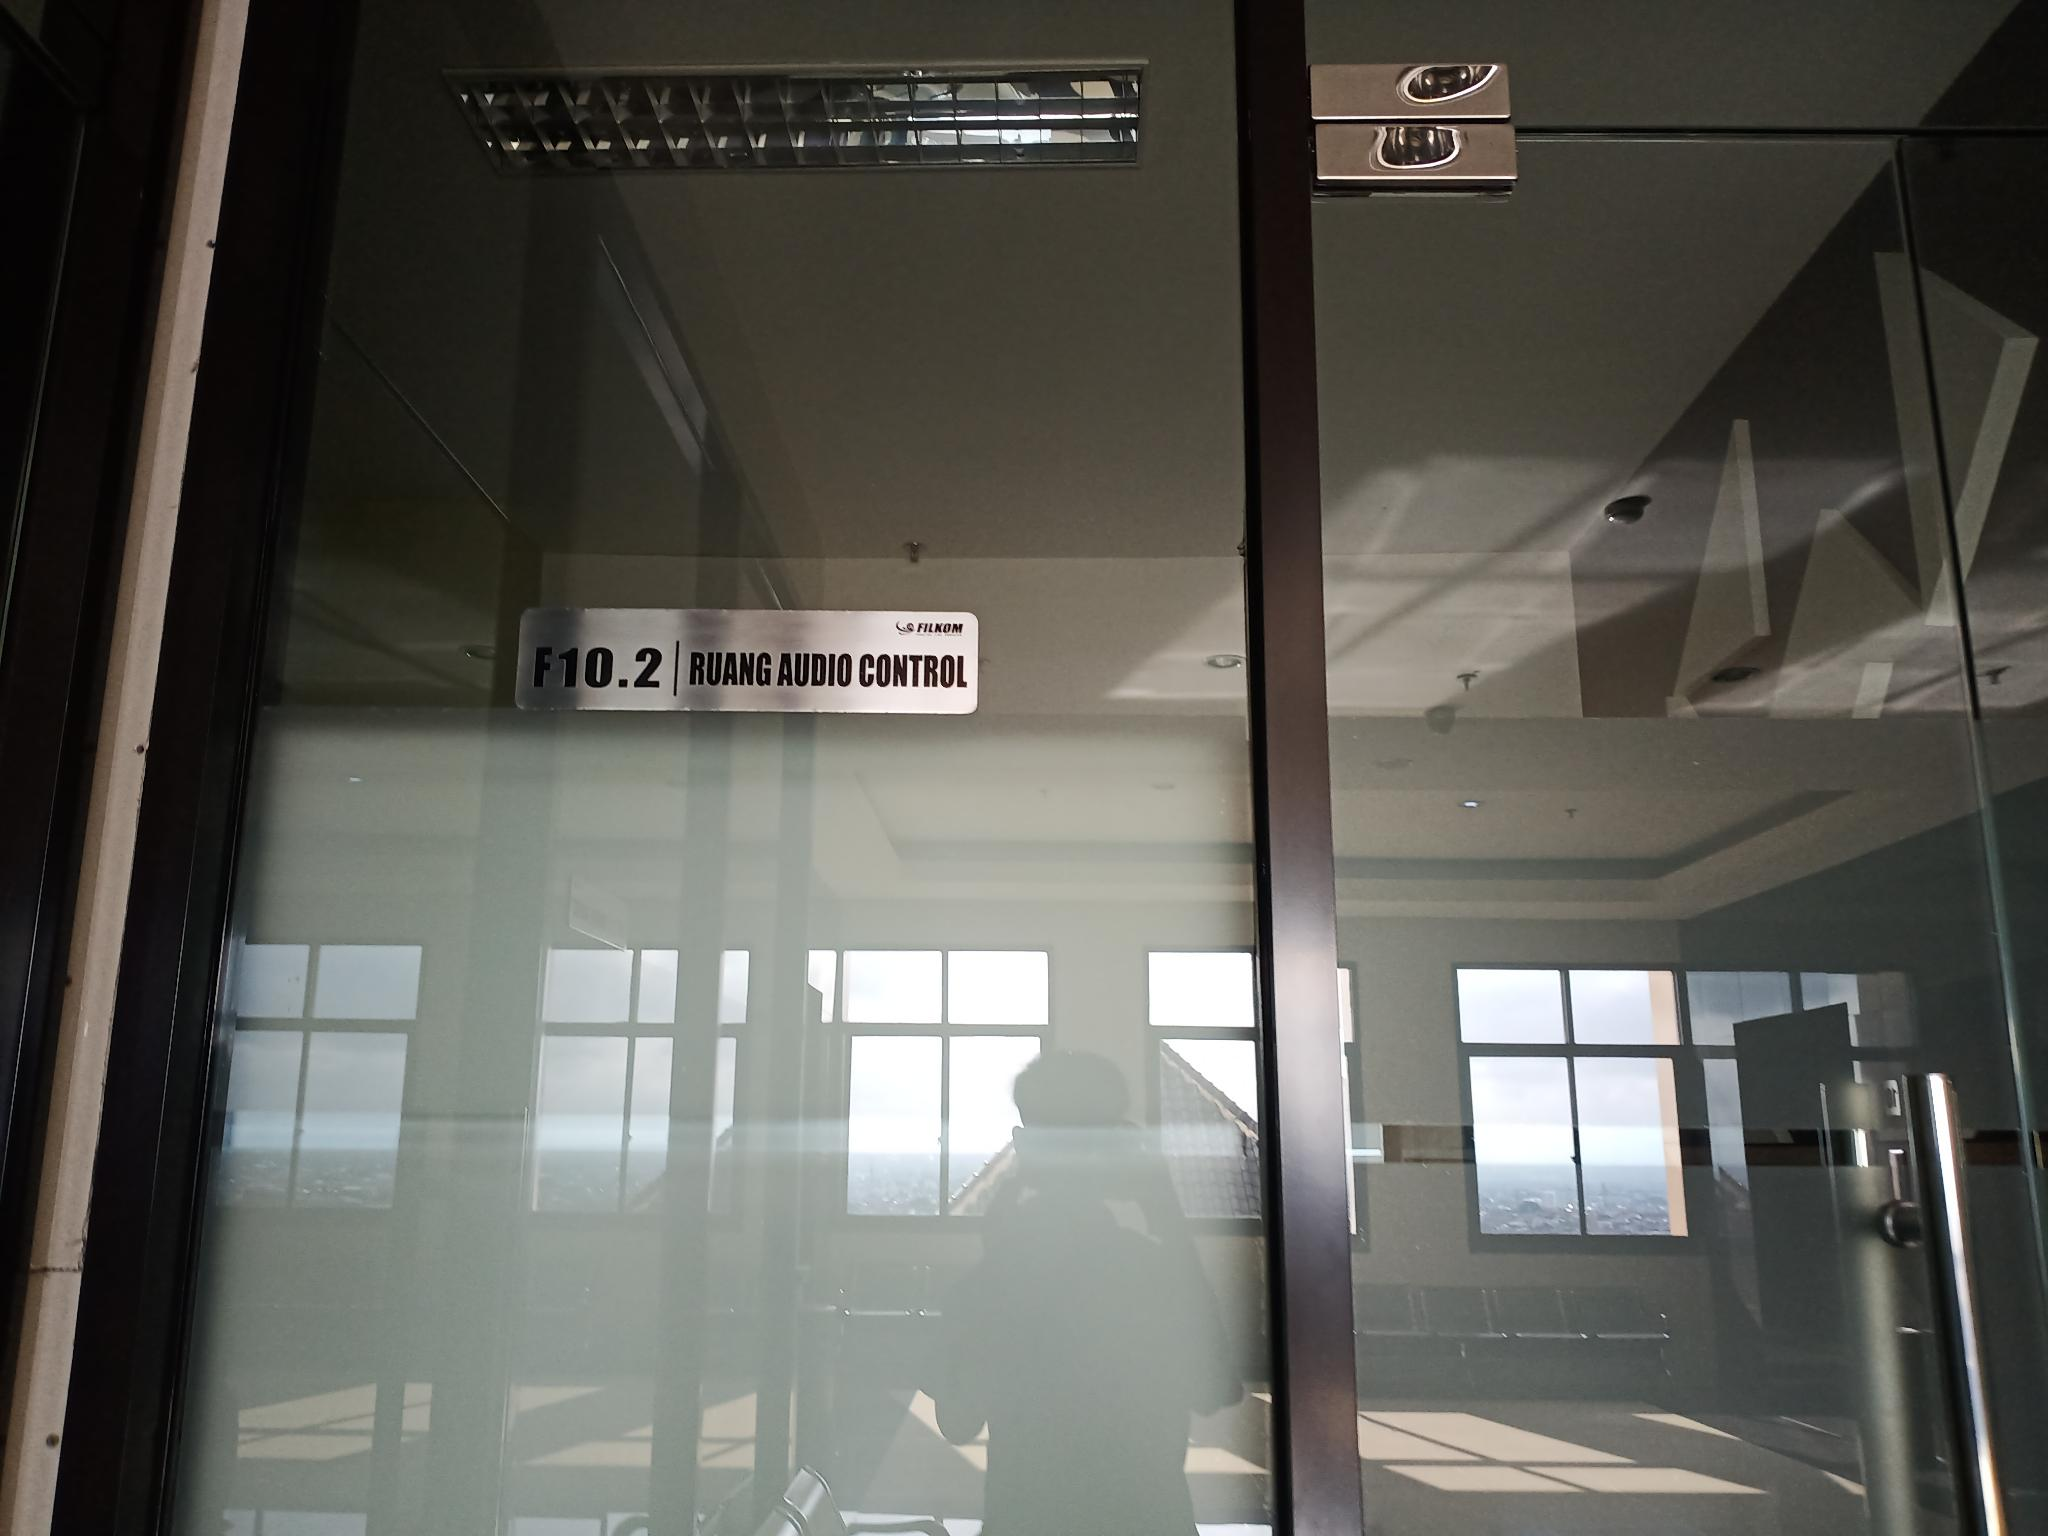plate: (514, 608, 980, 715)
